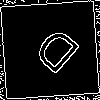D: (25, 25, 83, 84)
